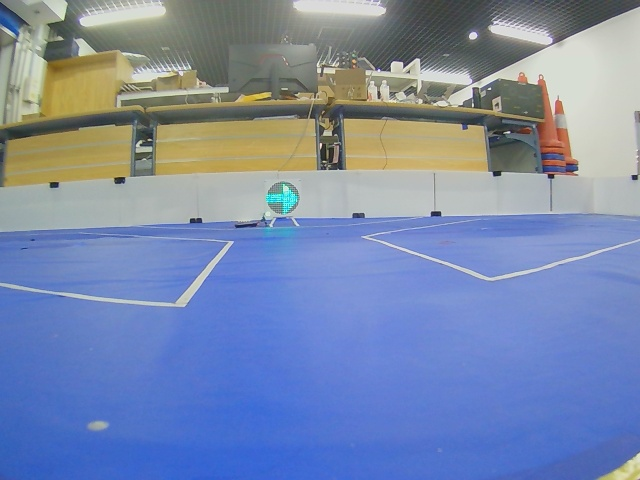right_green: (265, 181, 300, 215)
